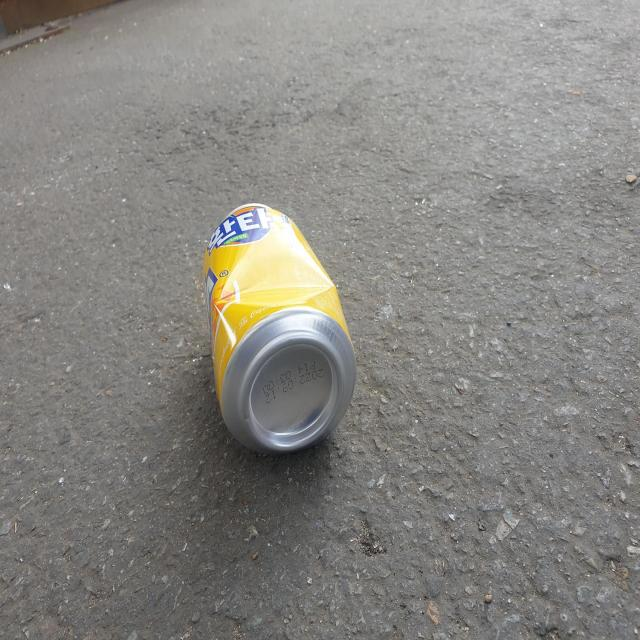can: (203, 202, 356, 453)
